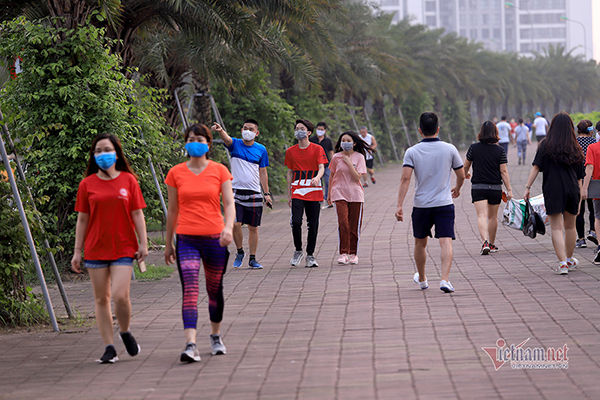person: (45, 121, 155, 364), (150, 115, 242, 367), (382, 110, 477, 302), (520, 110, 590, 277), (222, 110, 273, 280), (459, 113, 518, 259), (280, 115, 330, 276), (323, 127, 374, 280)
